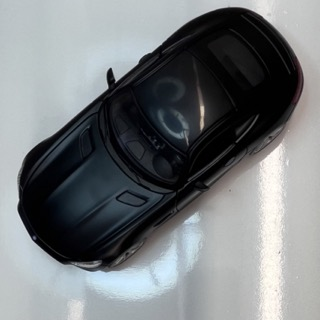car: (18, 7, 304, 274)
